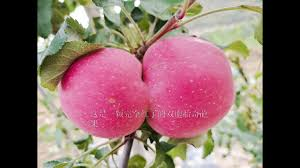Apple: (143, 33, 234, 140), (59, 47, 148, 138)
